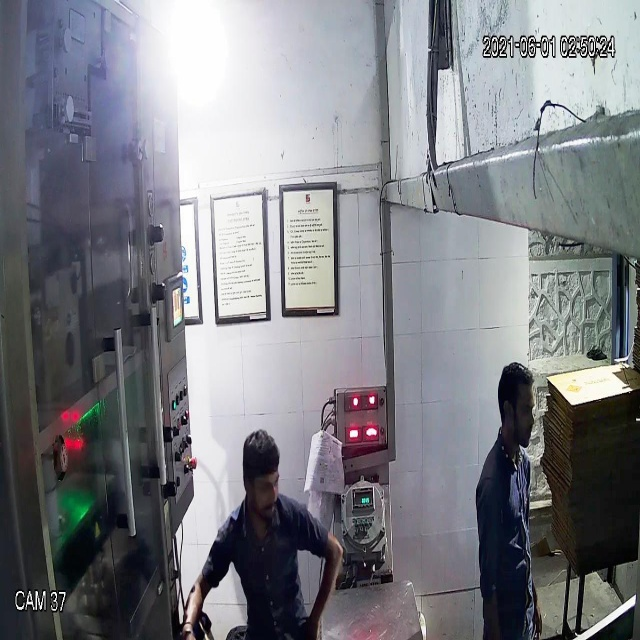Sin_gafas: (239, 470, 288, 502), (496, 397, 541, 428)
